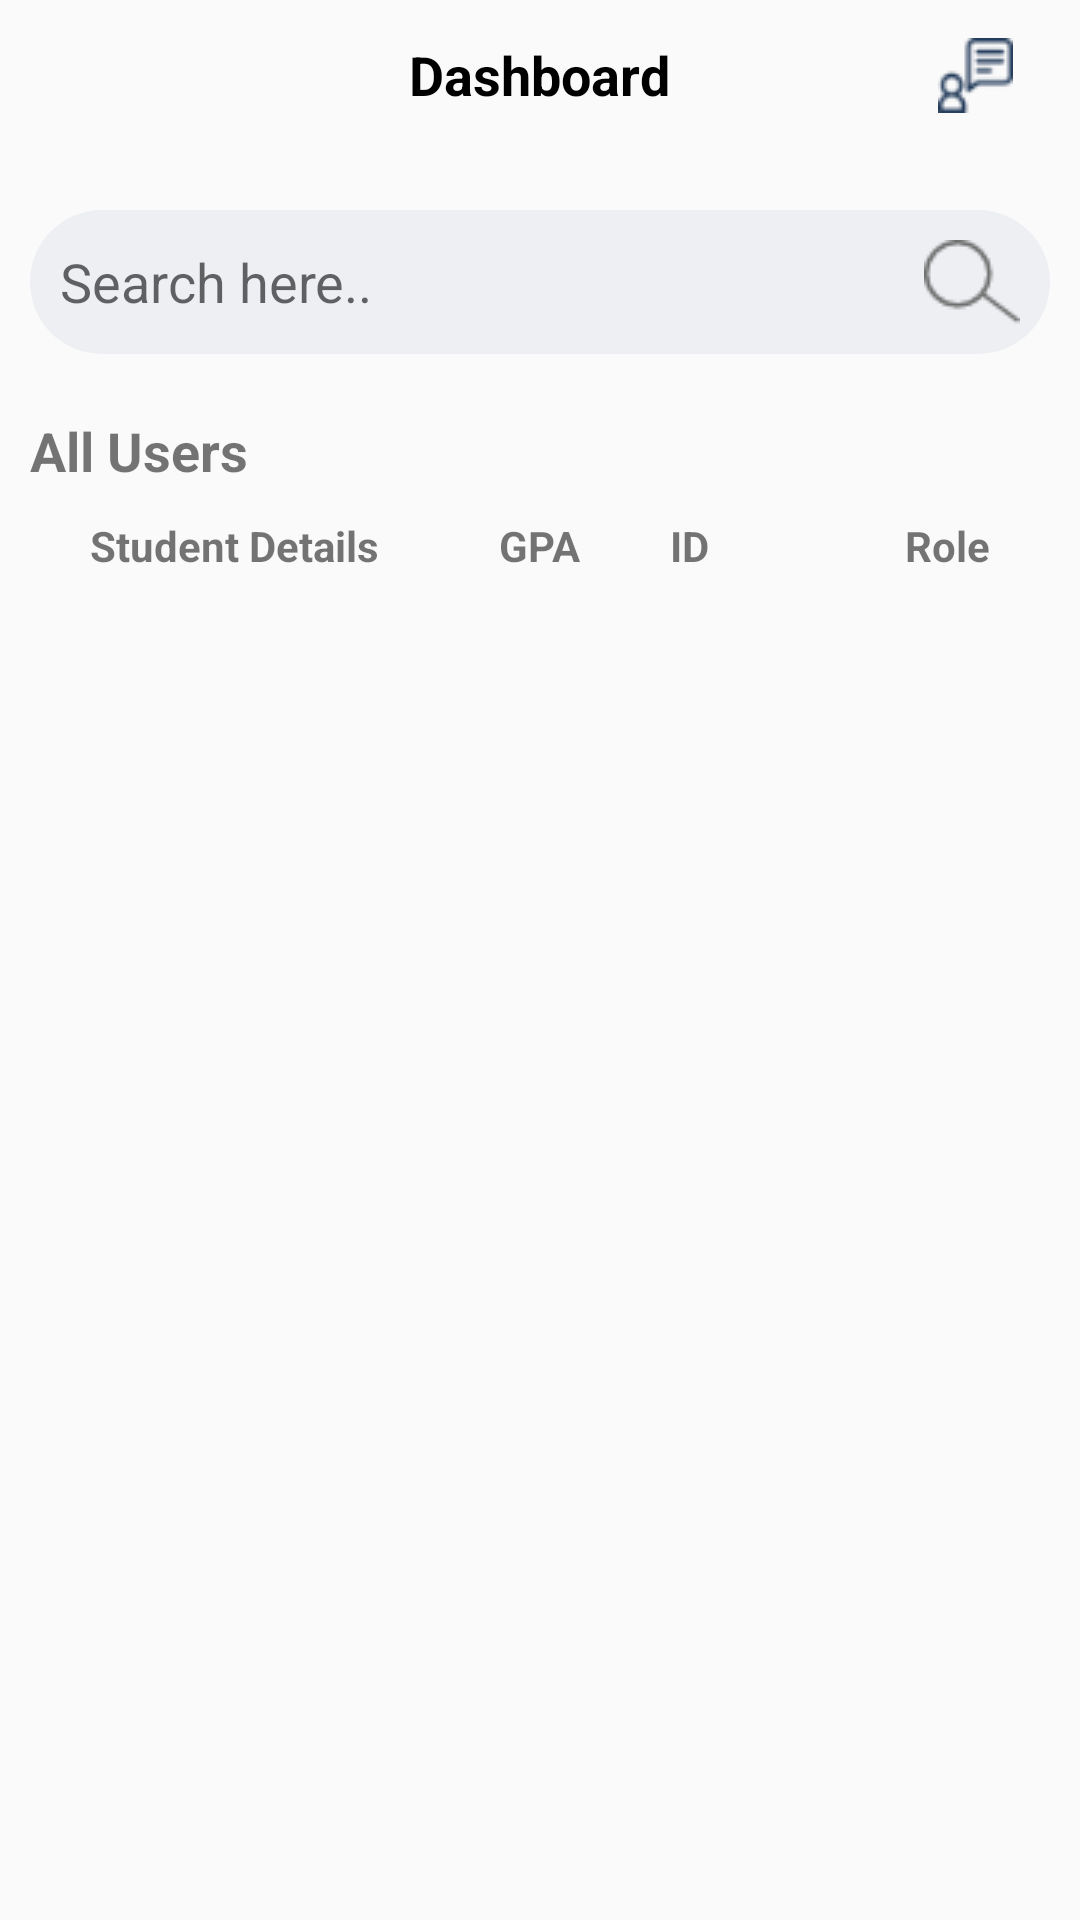

Locate icon controls on the screen. Image size 1080px x 1920px, boxes as region(x1, y1, x2, y2).
requestfordash: region(938, 38, 1013, 113)
